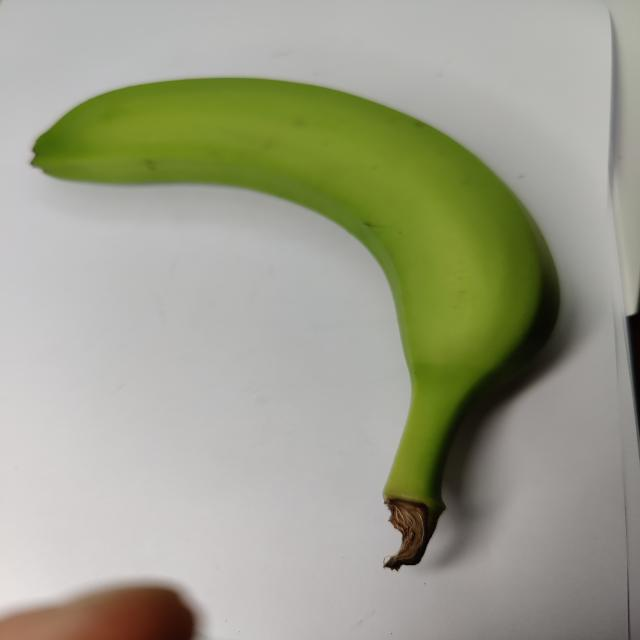raw: (17, 29, 566, 584)
